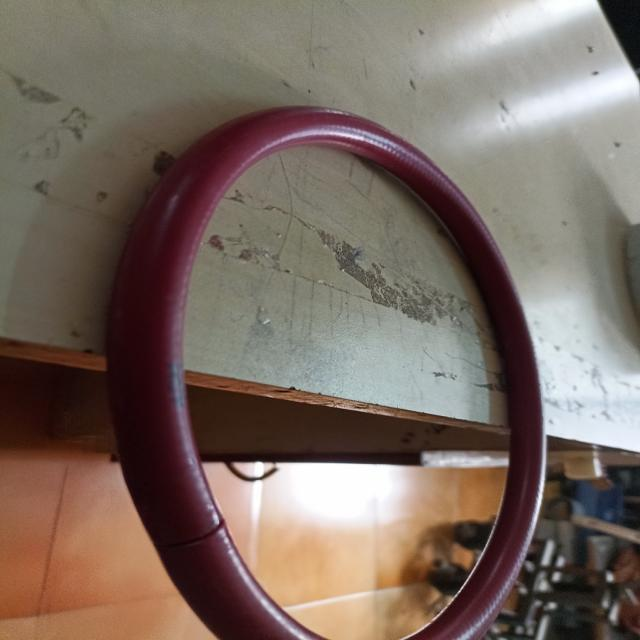daire: (120, 106, 548, 640)
